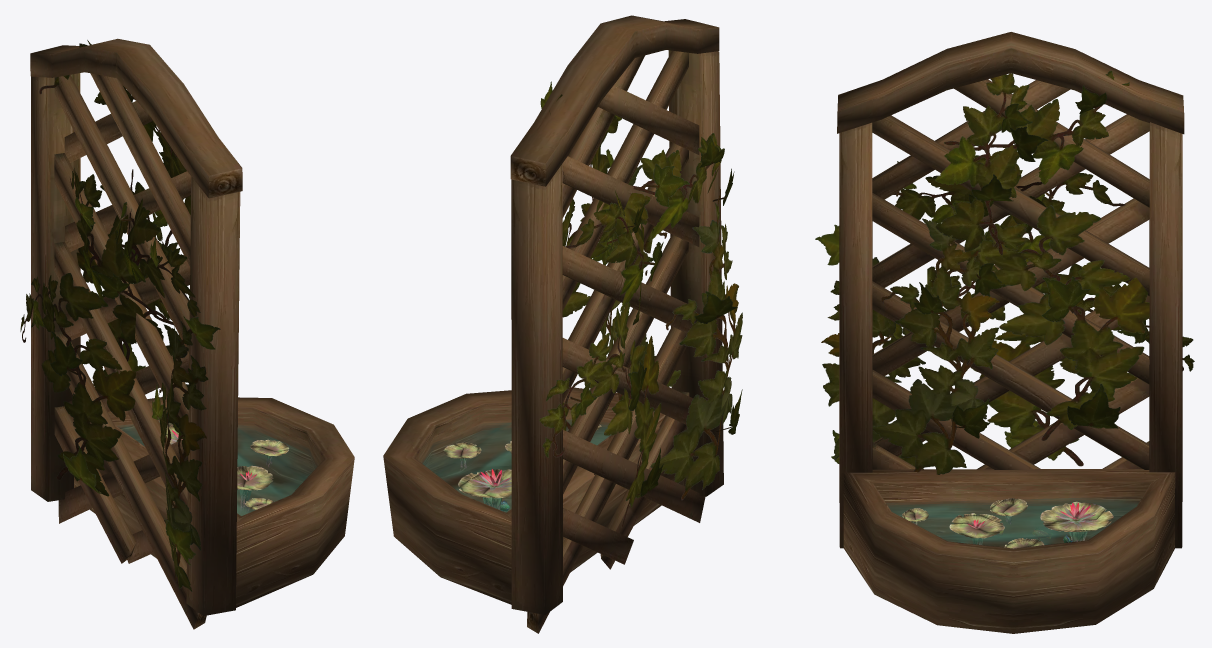
The picture shows the model from 3 angles, left to right: view 1: azimuth 30°, elevation 25°; view 2: azimuth 150°, elevation 25°; view 3: azimuth 270°, elevation 25°; orthographic projection. The views are drawn at different scales.
Bounding box in the file's own units: 4.13 × 8.26 × 5.7.
Materials: 11 (11 with a texture image).
